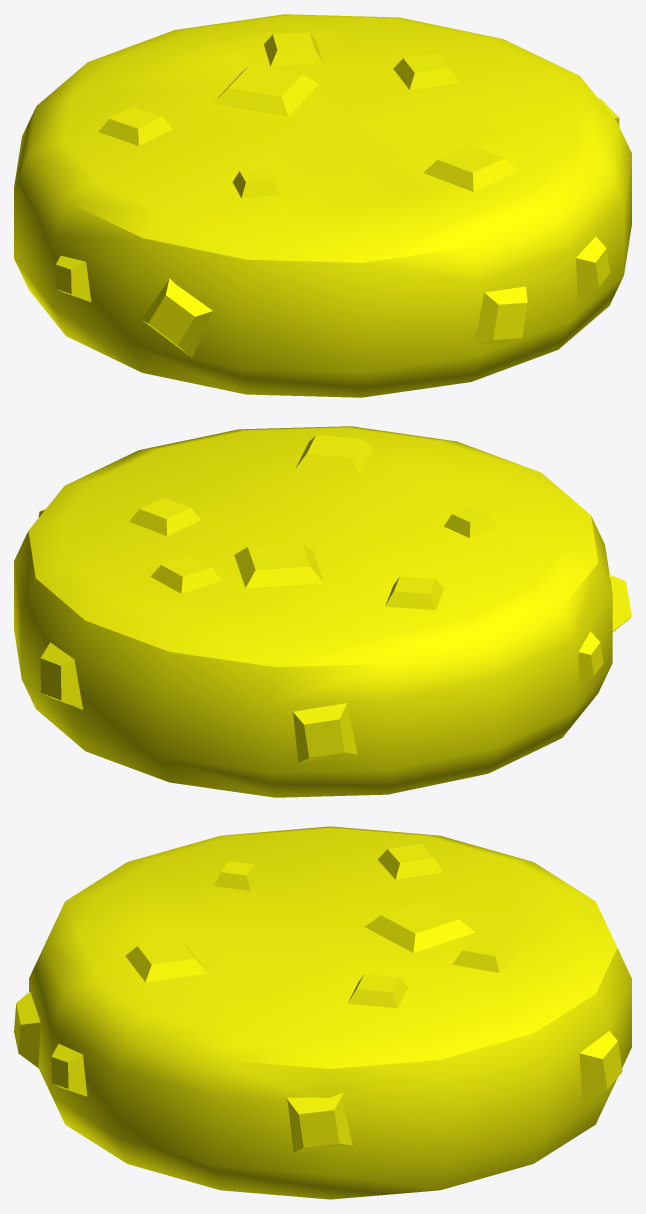
The model's file is food_ingredient_vegetableburger_uncooked.gltf.
The picture shows the model from 3 angles, top to bottom: view 1: azimuth 30°, elevation 25°; view 2: azimuth 150°, elevation 25°; view 3: azimuth 270°, elevation 25°; orthographic projection. The views are drawn at different scales.
Parts seen in each view (by area): view 1: food_ingredient_vegetableburger_uncooked; view 2: food_ingredient_vegetableburger_uncooked; view 3: food_ingredient_vegetableburger_uncooked.
Part boxes in pixels (x1,y1,x2,y2): food_ingredient_vegetableburger_uncooked: [14, 14, 631, 397]; food_ingredient_vegetableburger_uncooked: [14, 426, 631, 797]; food_ingredient_vegetableburger_uncooked: [14, 826, 631, 1199].
Size of the model in its own units: 0.728 by 0.216 by 0.7173.
1 material, 1 textured.
